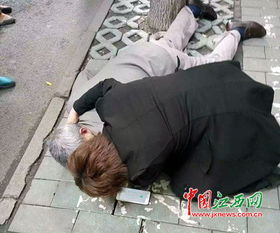fall: (56, 55, 274, 204)
